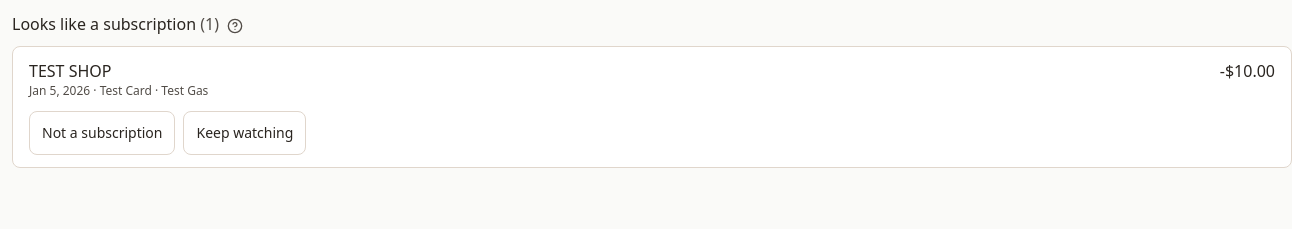
Test case: a refused dismissal shows the plain sentence
Step 1. Click the button "Not a subscription" → (102, 133), box [29, 111, 176, 155]
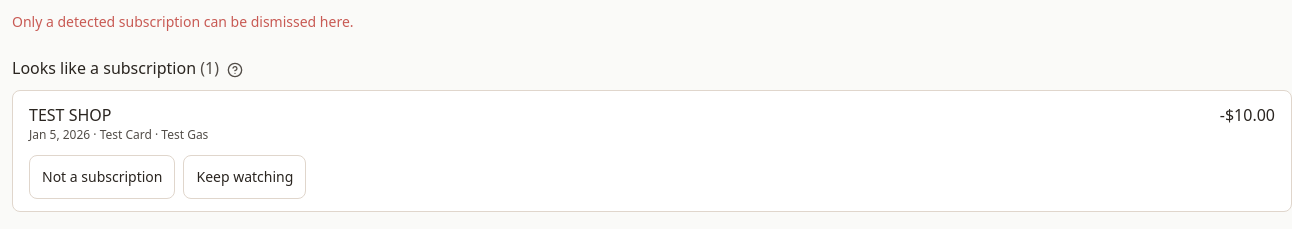
Expected: the message reads "Only a detected subscription can be dismissed here.", [12, 12, 354, 31]
